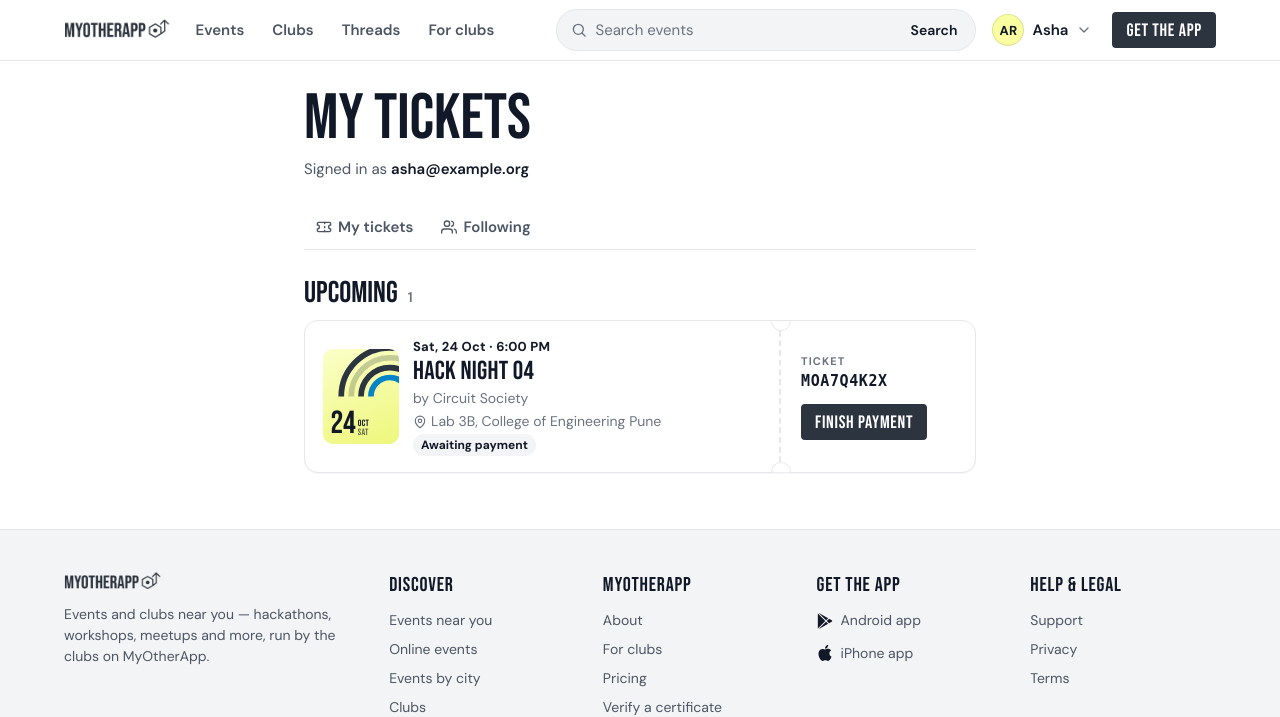
Scenario: Finish payment, from My tickets › says EVENT_FULL in words
Click the button with aria-label "Finish payment for Hack Night 04". click: (864, 422)
box: [801,404,927,440]
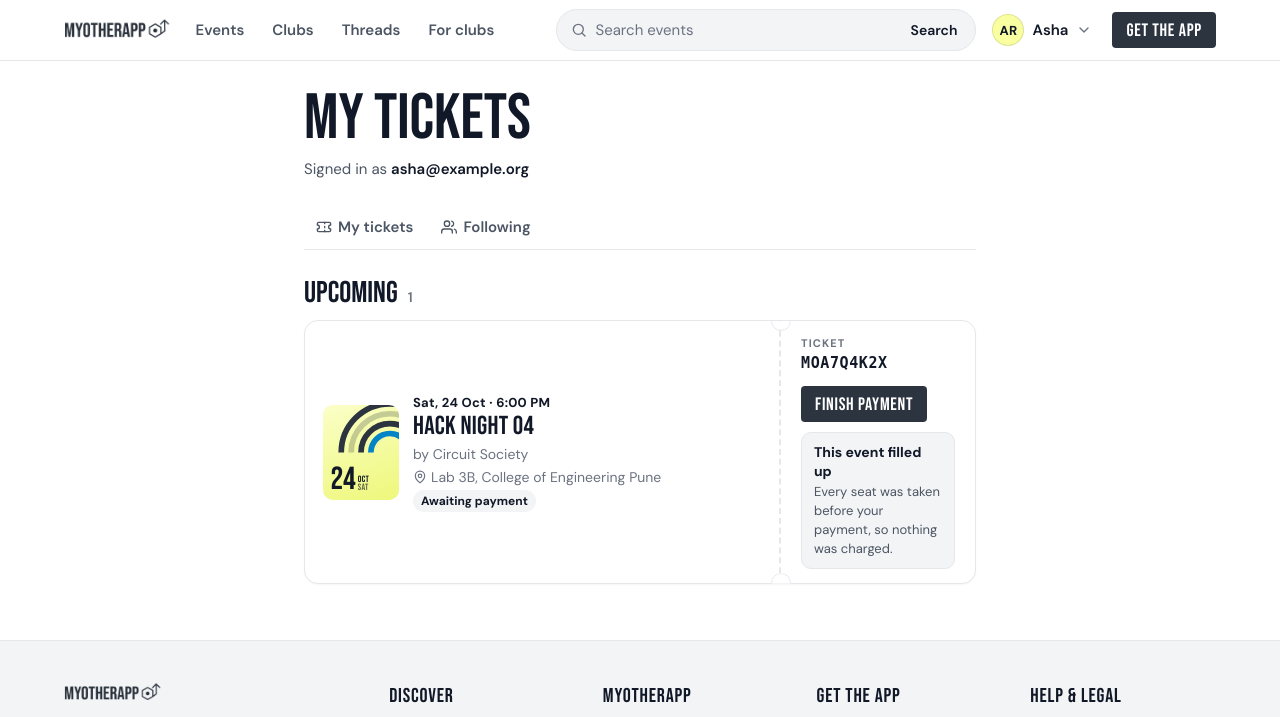
Expected: the message shows "This event filled up", [814,443,921,480]
